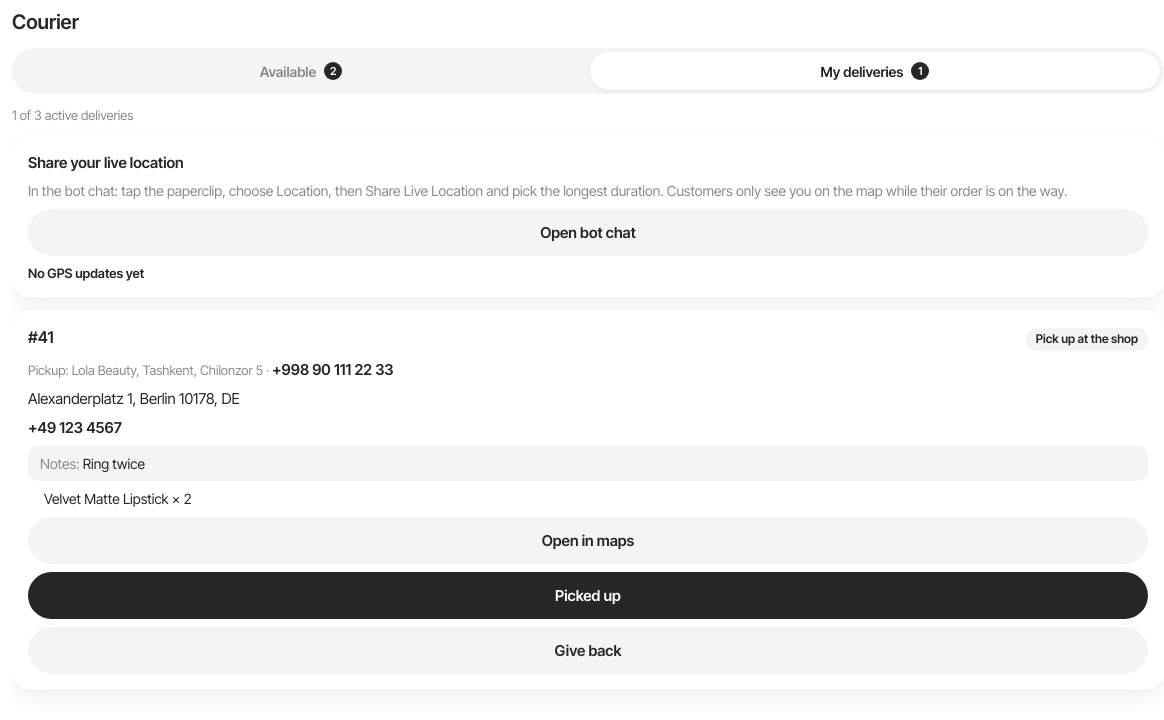
Test: CourierScreen: my deliveries › walks a delivery through pick-up and delivery
Click the button "Picked up" at (588, 596), box [28, 572, 1148, 619]
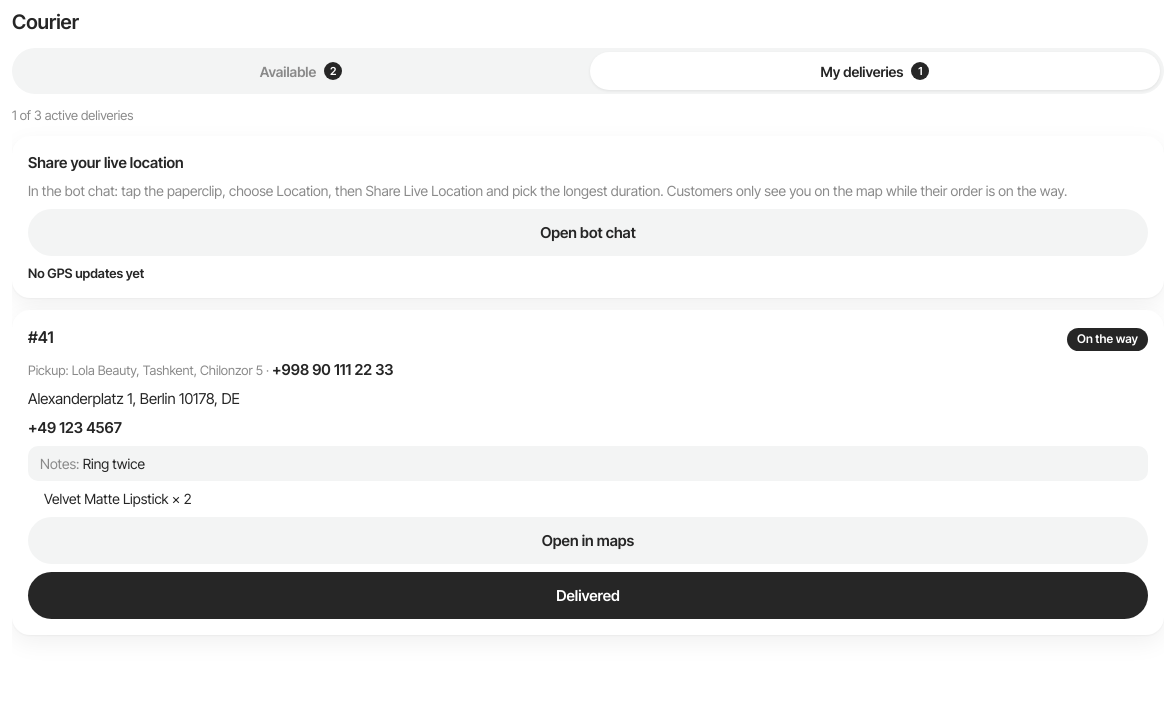
Click the button "Delivered" at (588, 596), box [28, 572, 1148, 619]
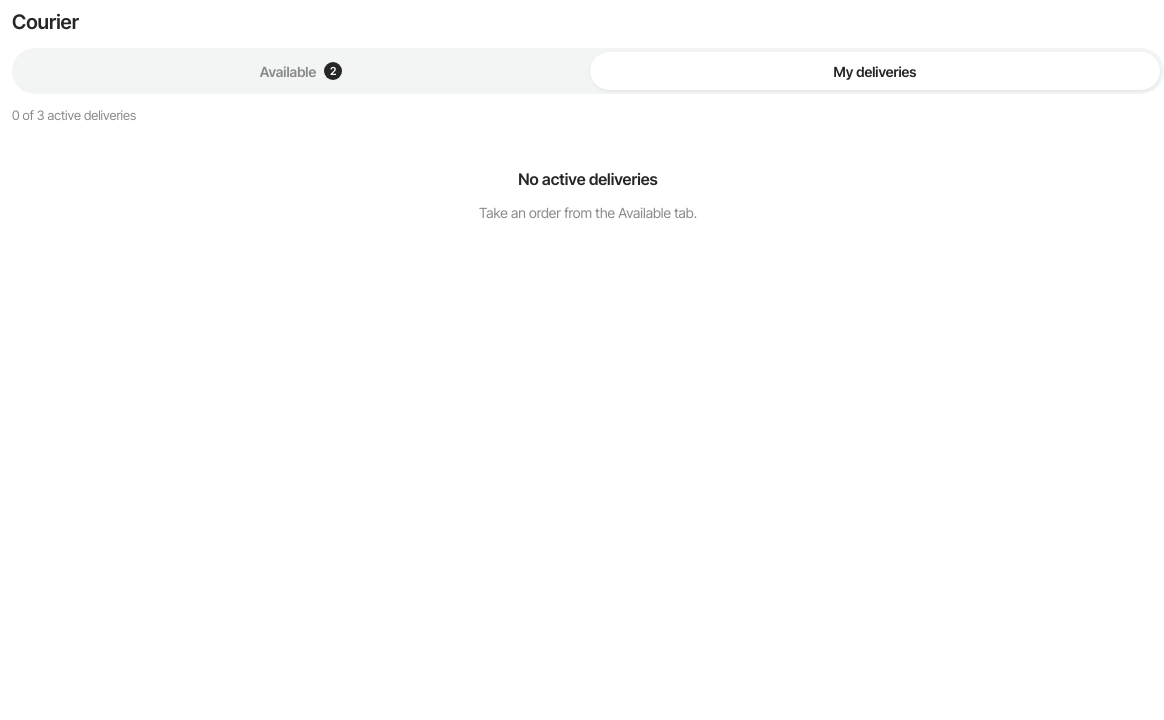
Result: the text "No active deliveries" is shown at [518, 168, 658, 191]
